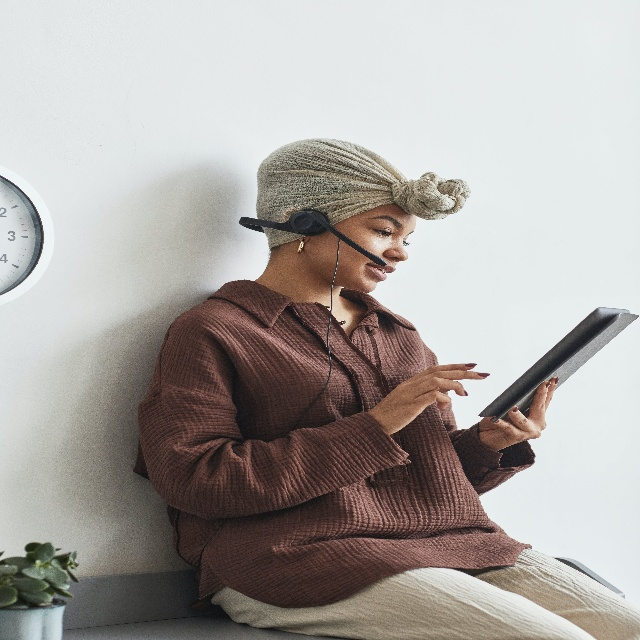Sin_guantes: (375, 361, 491, 433), (489, 375, 561, 452)
